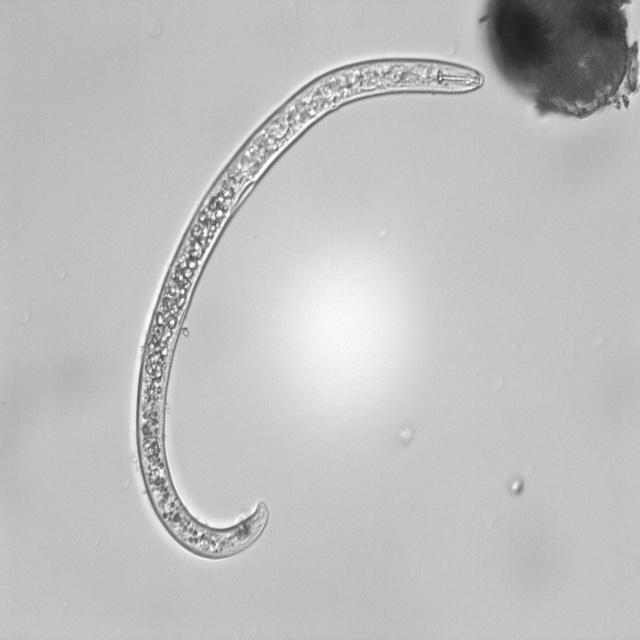Helicotylenchus: (129, 52, 486, 563)
